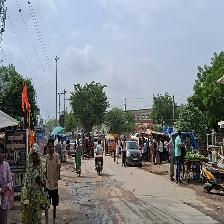Bike: (93, 141, 105, 174)
Car: (80, 125, 94, 161), (127, 140, 143, 167)
Human: (24, 138, 43, 224), (46, 138, 63, 224), (0, 144, 15, 224), (175, 129, 182, 184), (169, 132, 175, 182), (75, 141, 82, 179), (121, 136, 127, 166), (114, 140, 120, 164)
Obstacle: (198, 153, 223, 195)
Road: (66, 156, 223, 223)
